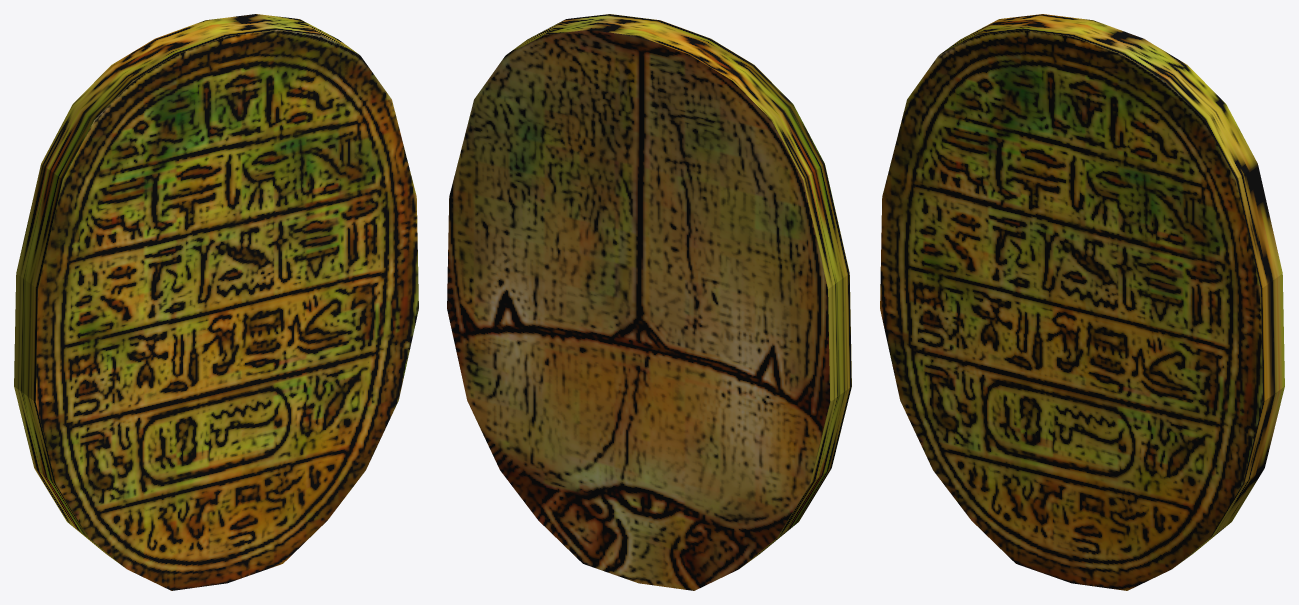
File: heart_scarab.FBX
3 views of the same model, side by side, from view 1: azimuth 30°, elevation 25°; view 2: azimuth 150°, elevation 25°; view 3: azimuth 330°, elevation 25° (orthographic).
Parts seen in each view (by area): view 1: Box002; view 2: Box002; view 3: Box002.
Part boxes in pixels (x1,y1,x2,y2): Box002: (14,14,418,590); Box002: (447,14,851,590); Box002: (880,14,1284,590).
Bounding box in the file's own units: 3.43 × 4.68 × 0.3379.
Materials: 1 (1 with a texture image).
